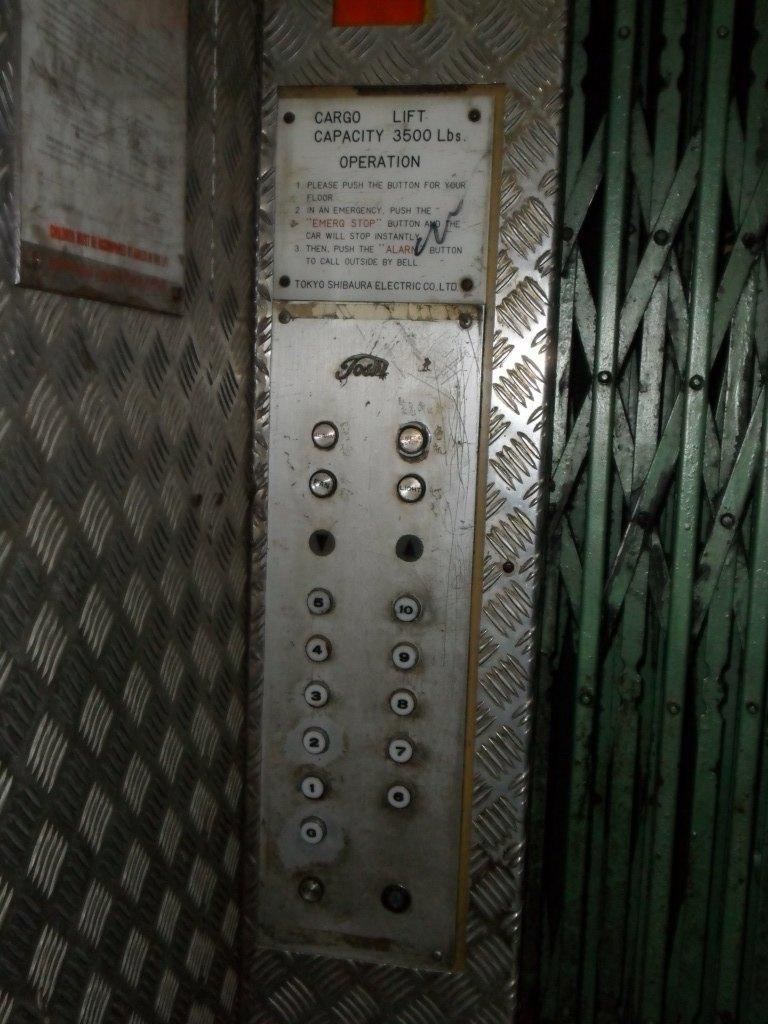1: (300, 773, 327, 800)
10: (392, 594, 422, 624)
2: (301, 725, 329, 755)
3: (303, 680, 330, 709)
4: (304, 633, 333, 664)
5: (305, 586, 334, 616)
6: (384, 782, 414, 811)
7: (387, 737, 415, 765)
8: (388, 687, 418, 718)
9: (389, 640, 421, 672)
G: (298, 815, 327, 847)
blur: (395, 420, 430, 457), (380, 882, 413, 916), (308, 467, 338, 498), (310, 419, 338, 450), (298, 878, 324, 903)
down: (308, 529, 335, 556)
text_light: (396, 472, 425, 502)
up: (395, 535, 423, 561)
